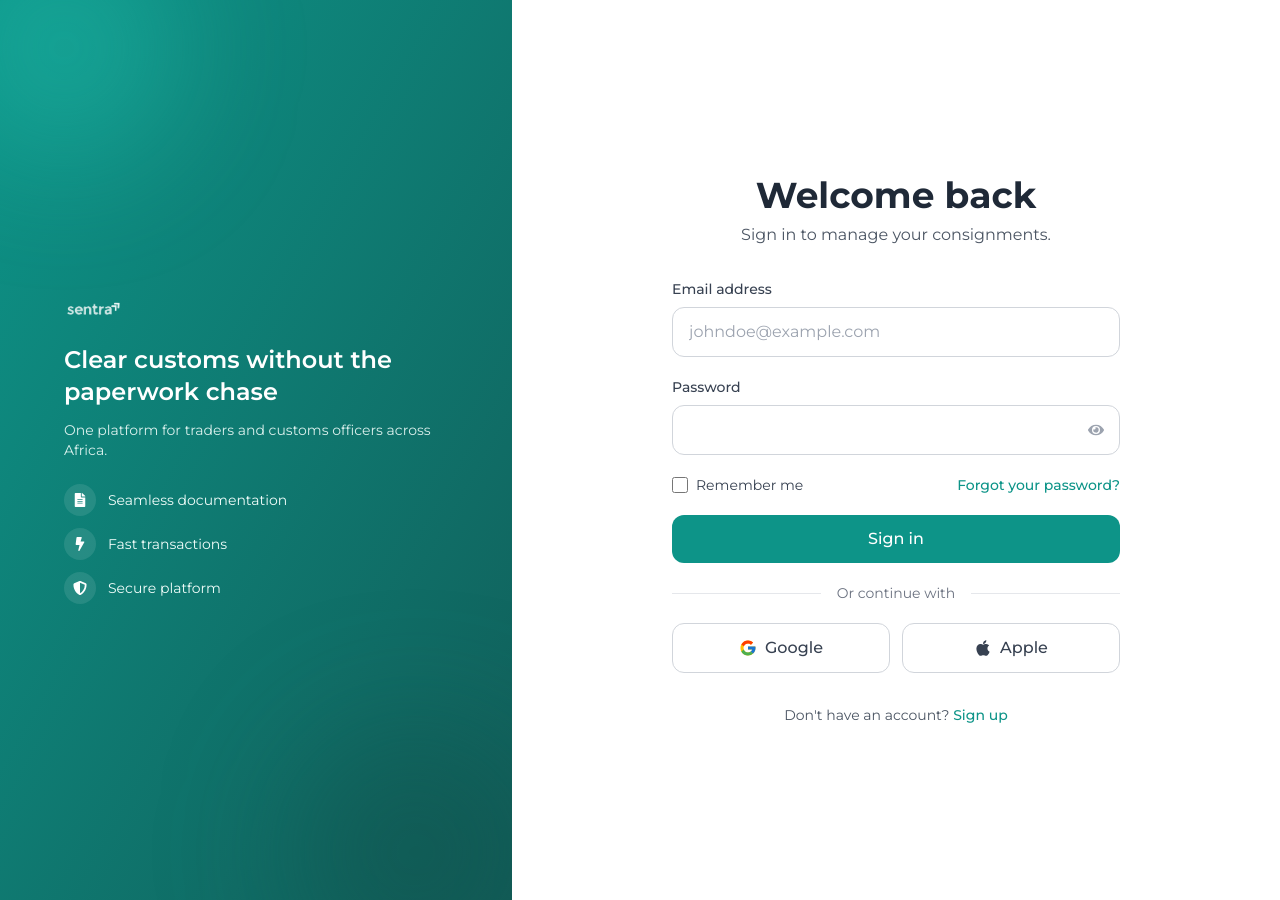
Scenario: LoginPage › shows a generic error on failed login without leaking the cause
Type "jane@example.com" into the field labelled "Email address" at {"x": 896, "y": 332}, box [672,307,1120,357]
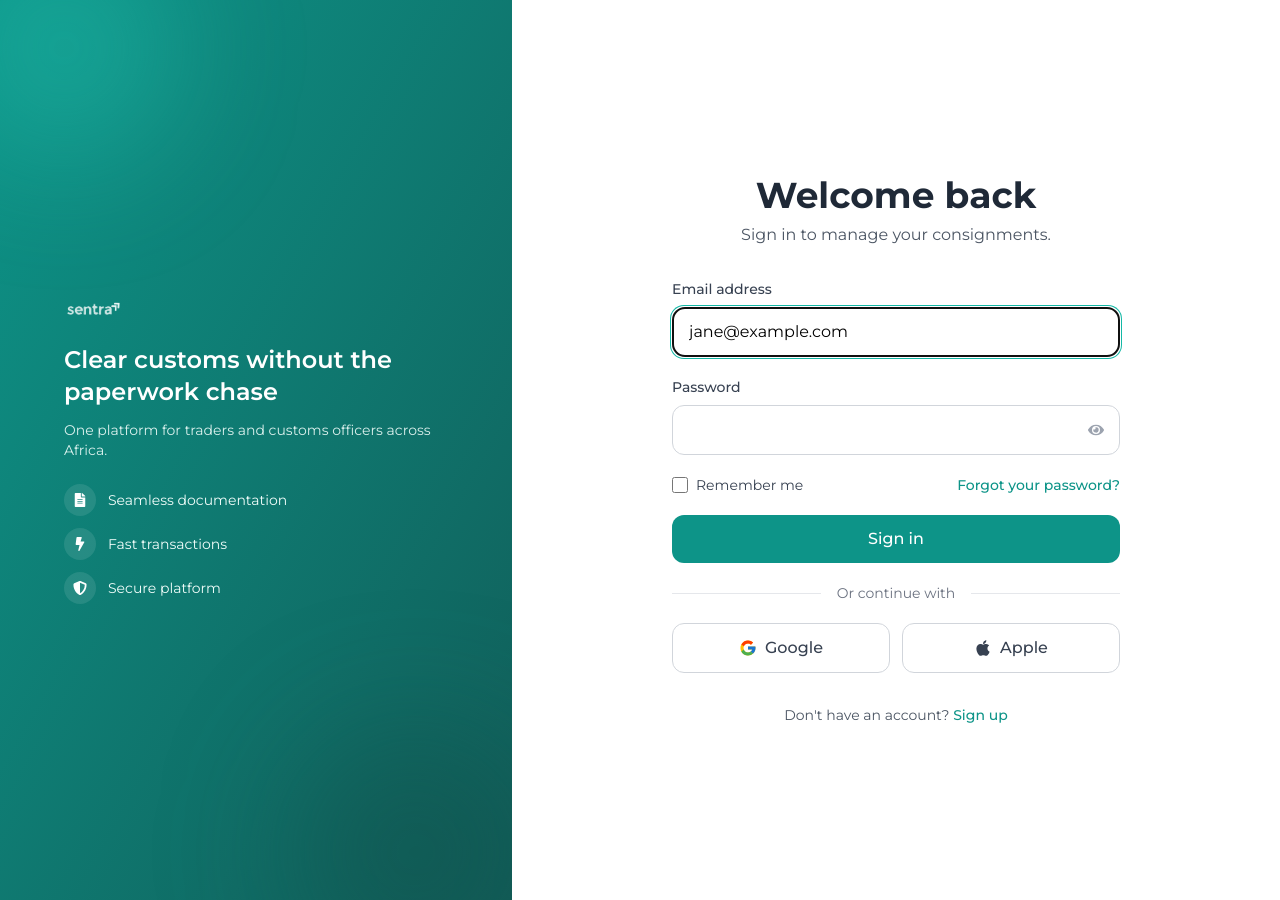
Type "wrong" into the password field labelled "Password" at {"x": 896, "y": 430}, box [672,405,1120,455]
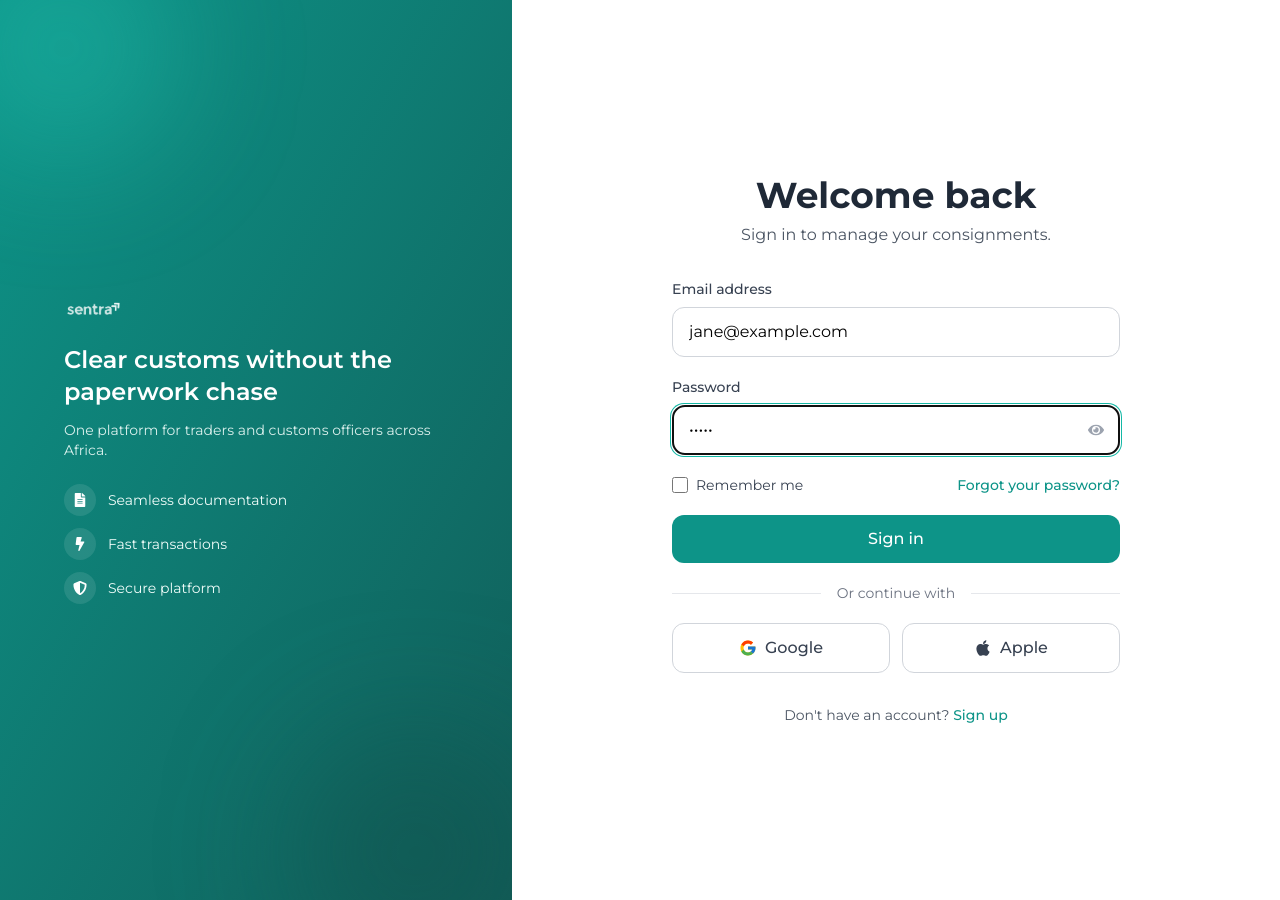
Click the button "Sign in" at {"x": 896, "y": 539}, box [672,515,1120,563]
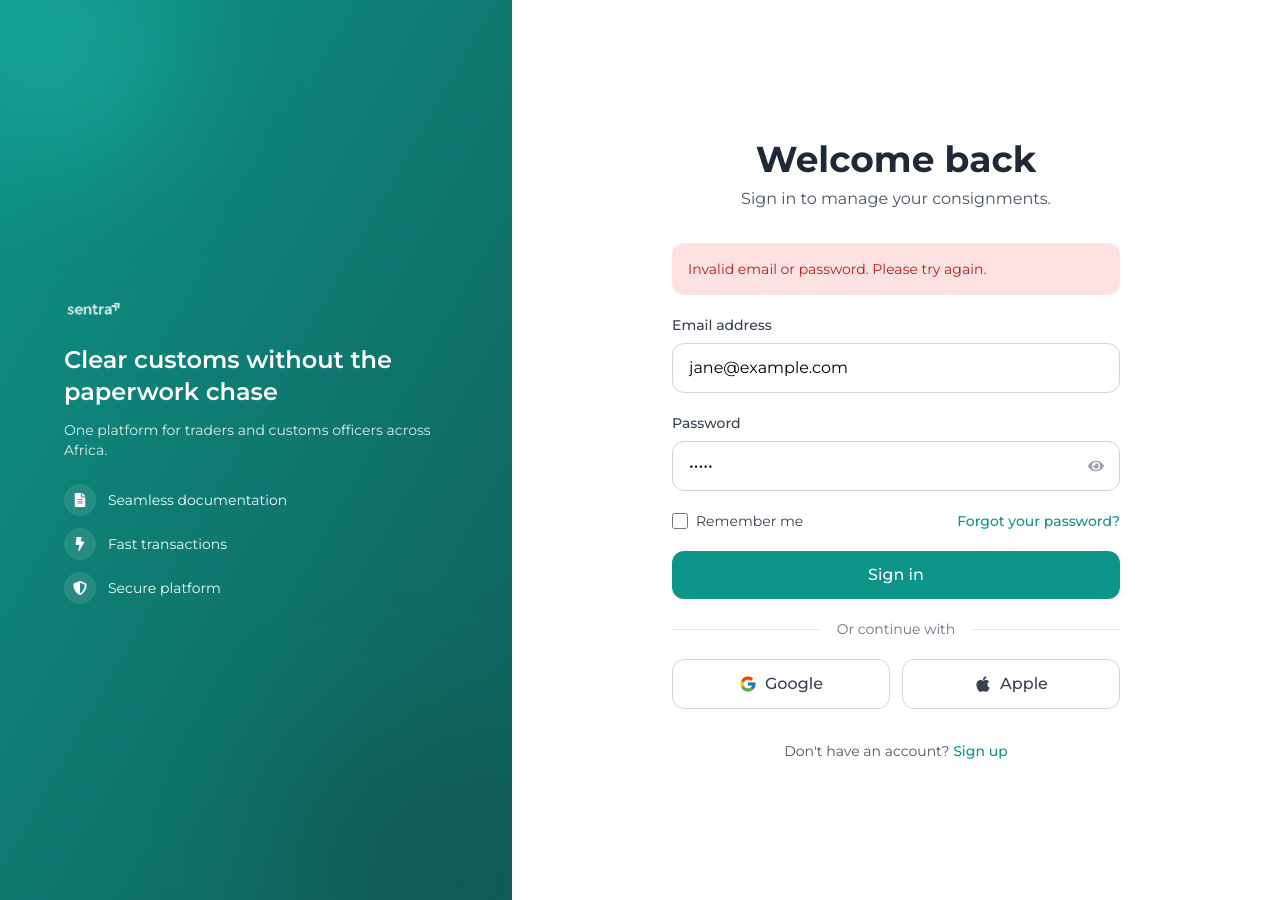
Expected: the text "Invalid email or password. Please try again." is shown, [672,243,1120,295]
